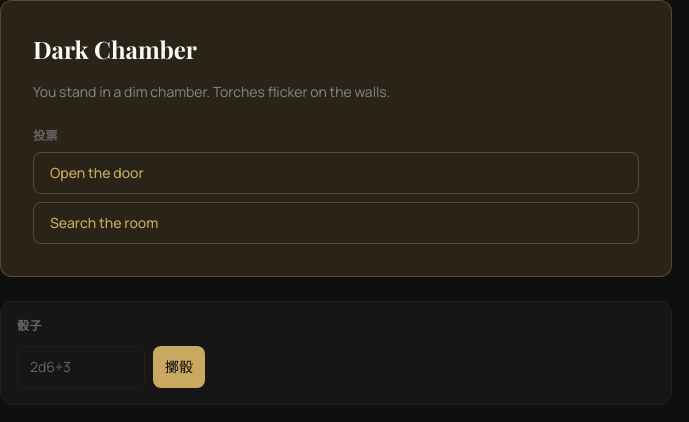
Scenario: SceneView › highlights voted button with ring
Click the button "Open the door": (97, 172) top-left (33, 152), bottom-right (639, 194)
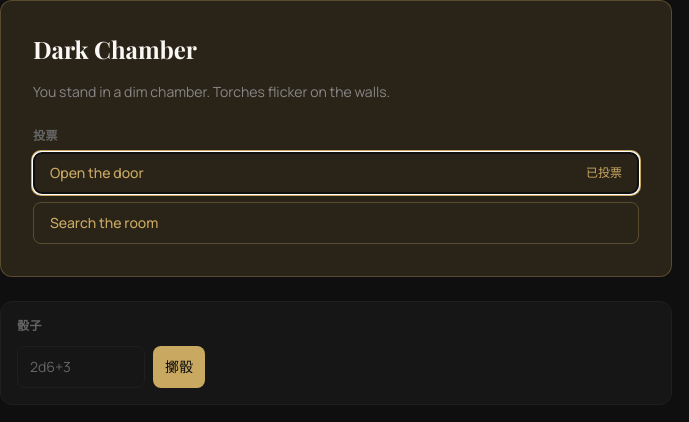
Expected: the text "已投票" is shown, top-left (586, 165), bottom-right (622, 181)
